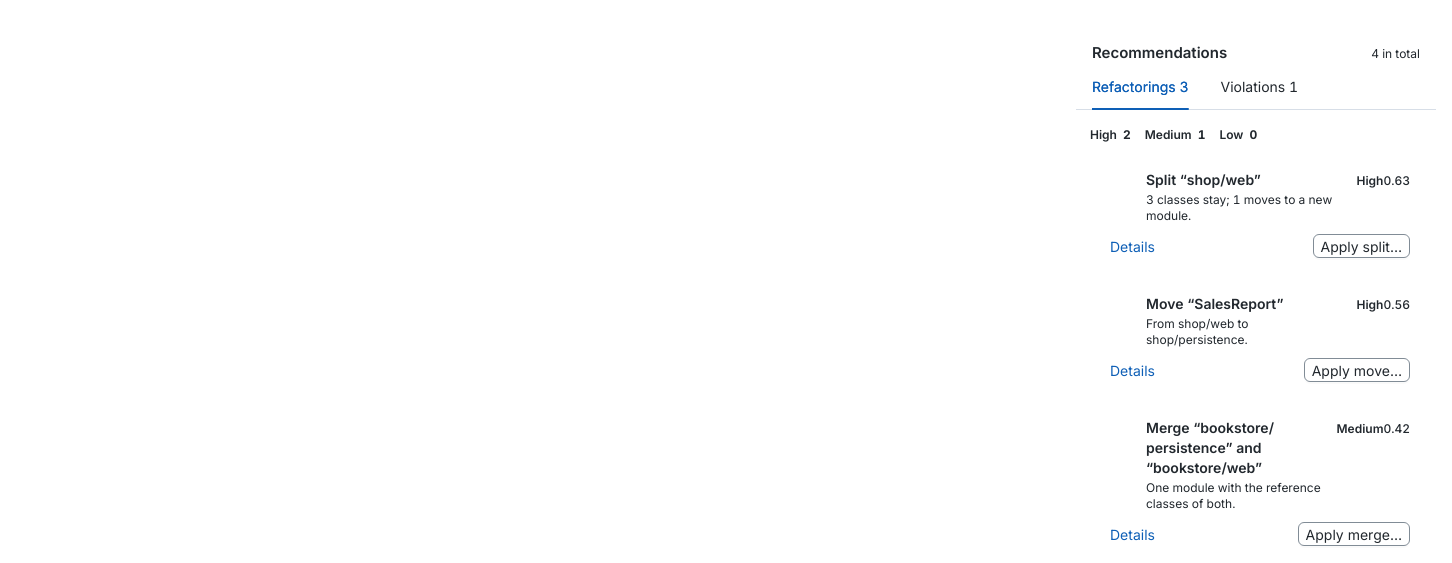
Test: RecommendationsPanel › highlights on the graph the modules a hovered card touches
Hover over the element "Move “SalesReport”" at (1215, 304), box top-left (1090, 282), bottom-right (1422, 394)
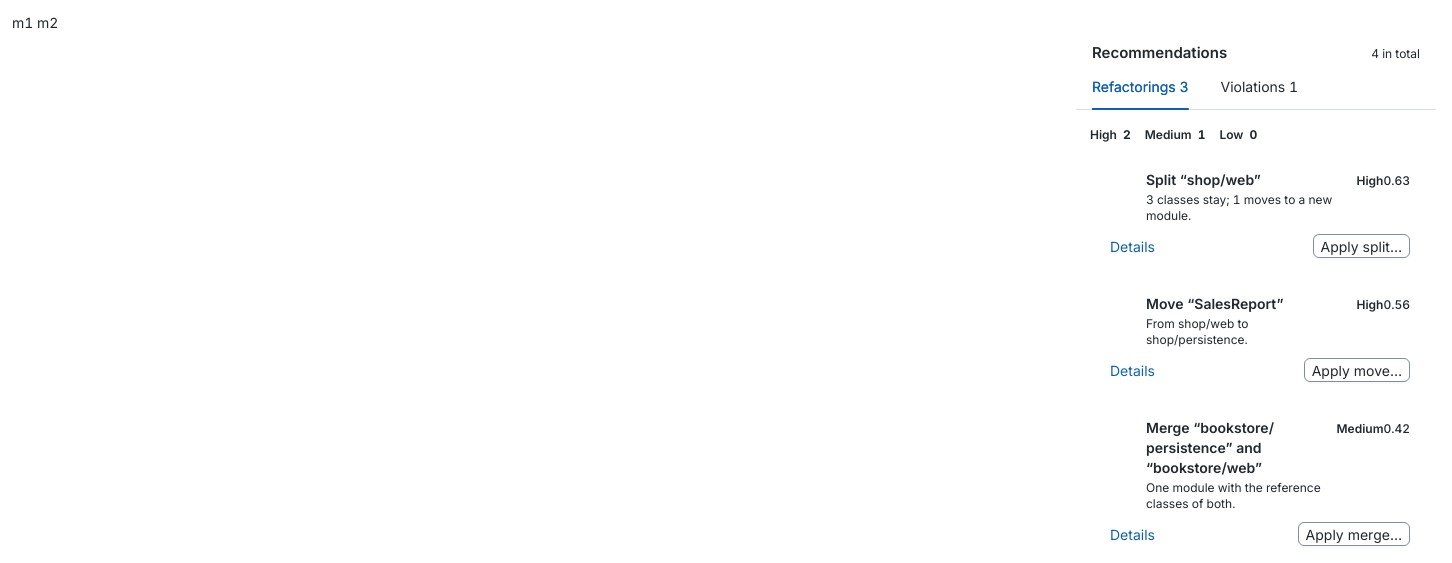
Expected: the text named "highlighted" reads "m1 m2", top-left (12, 14), bottom-right (58, 31)
